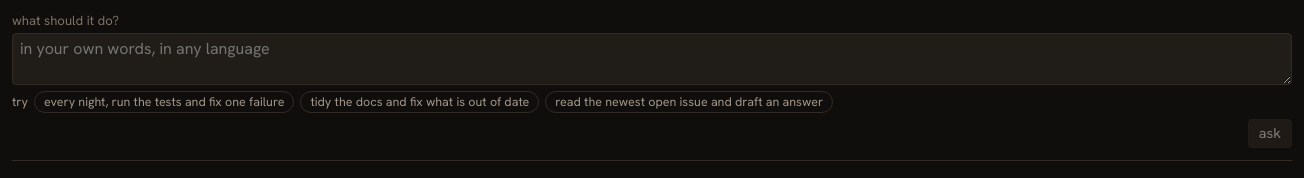
Test: an example goes into the box to be changed or sent, and the examples leave with the first word
The image size is (1304, 178).
What coordinates should you click on to do the following:
click the button "every night, run the tests and fix one failure"
I would click on:
 (164, 102)
Its box is [34,91,294,113].
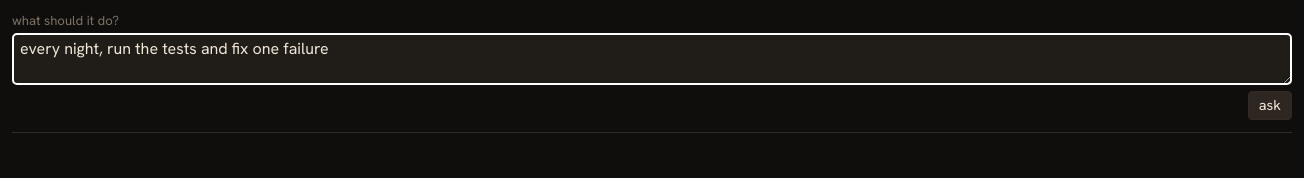
Expected: the text box named "Describe the work" holds "every night, run the tests and fix one failure", [12,33,1292,85]
